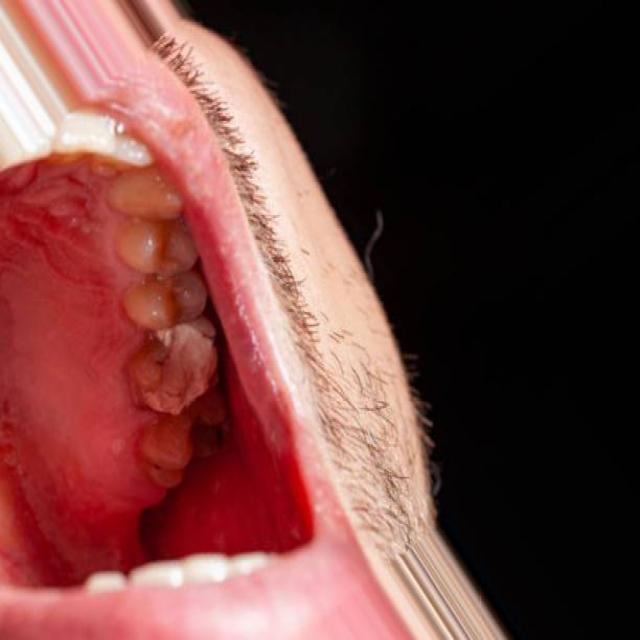caries: (133, 309, 228, 424)
